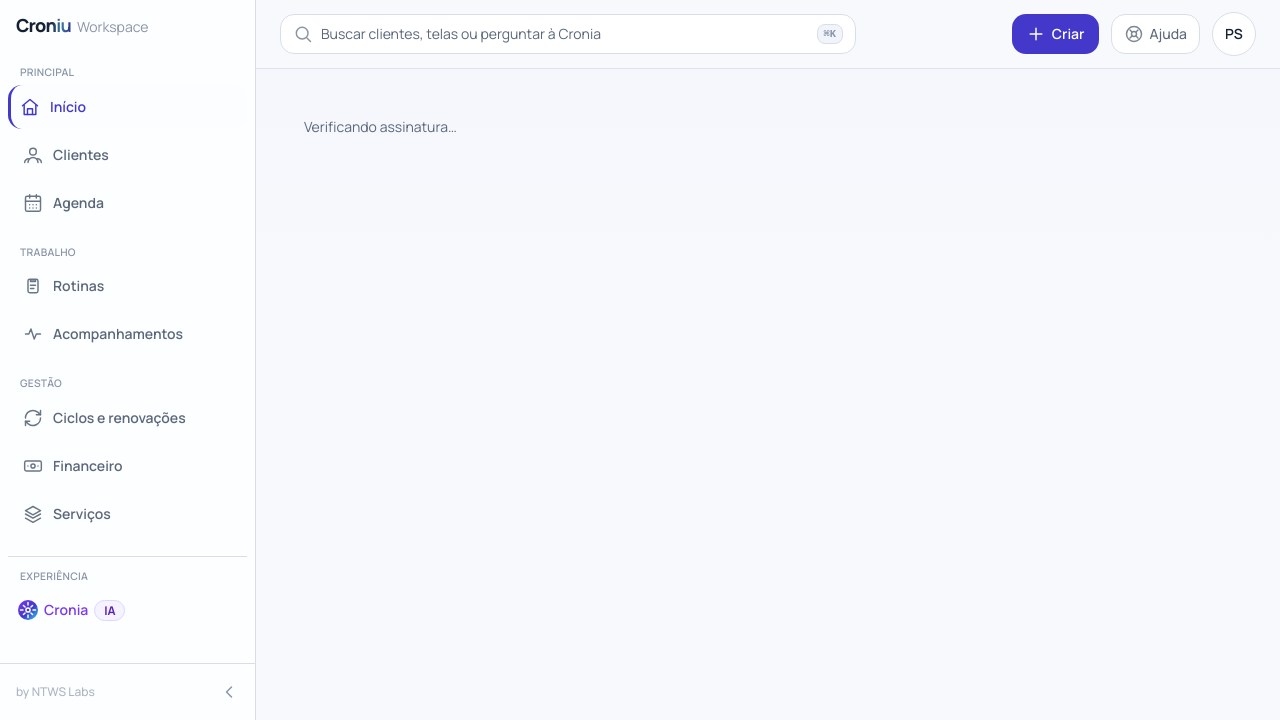
Test: AppShell desktop workspace structure › collapses and expands the sidebar from its own footer control
Click the button with aria-label "Recolher menu": {"x": 128, "y": 692} [8, 674, 247, 710]
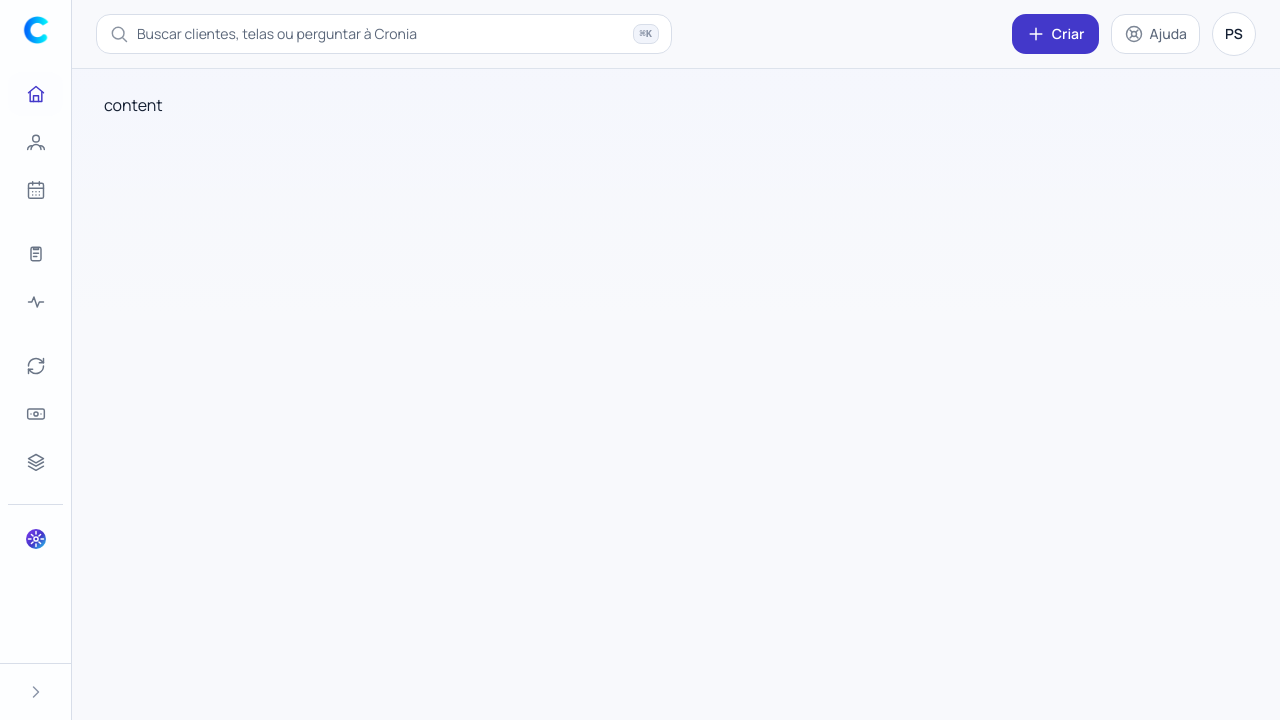
Expected: the button named "Expandir menu" is shown, [8, 674, 63, 710]
Expected: the text "Principal" is gone
